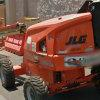Tractor: (7, 9, 100, 100)
